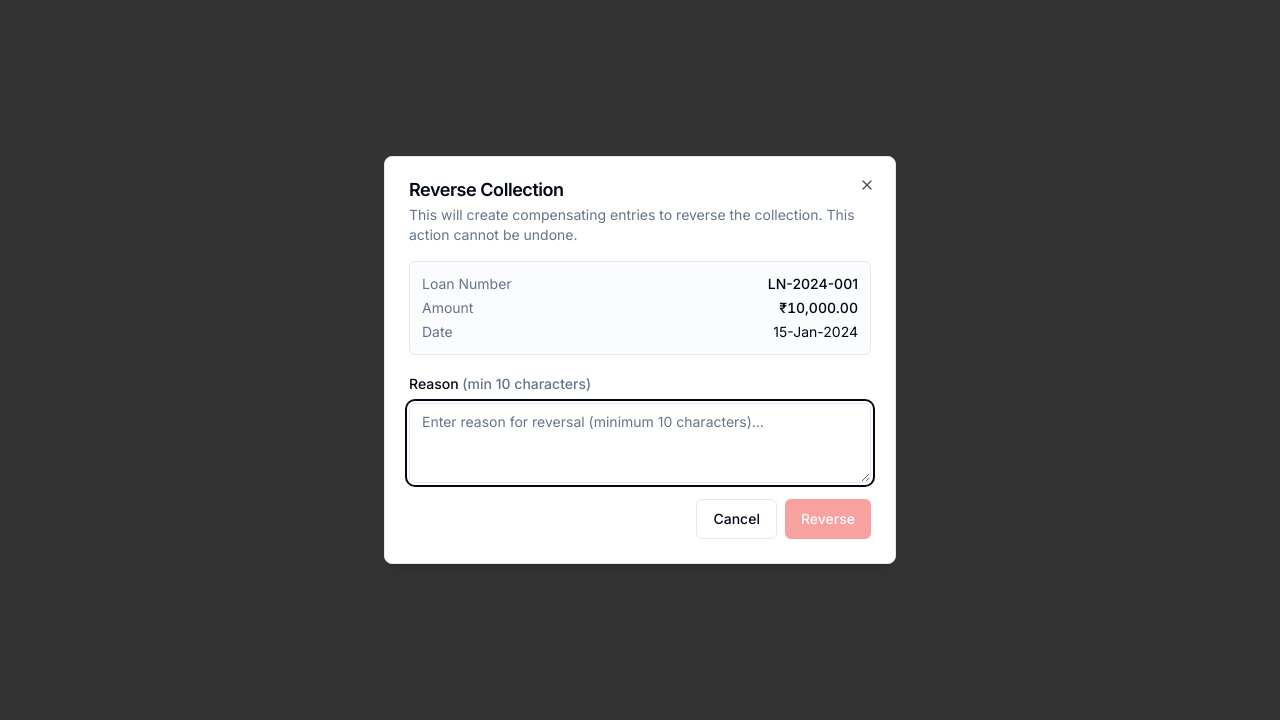
Scenario: ReversalDialog › Reason Validation › shows validation error when reason is too short
Step 1. Type "short" into the text box → [640, 443], box [409,403,871,483]
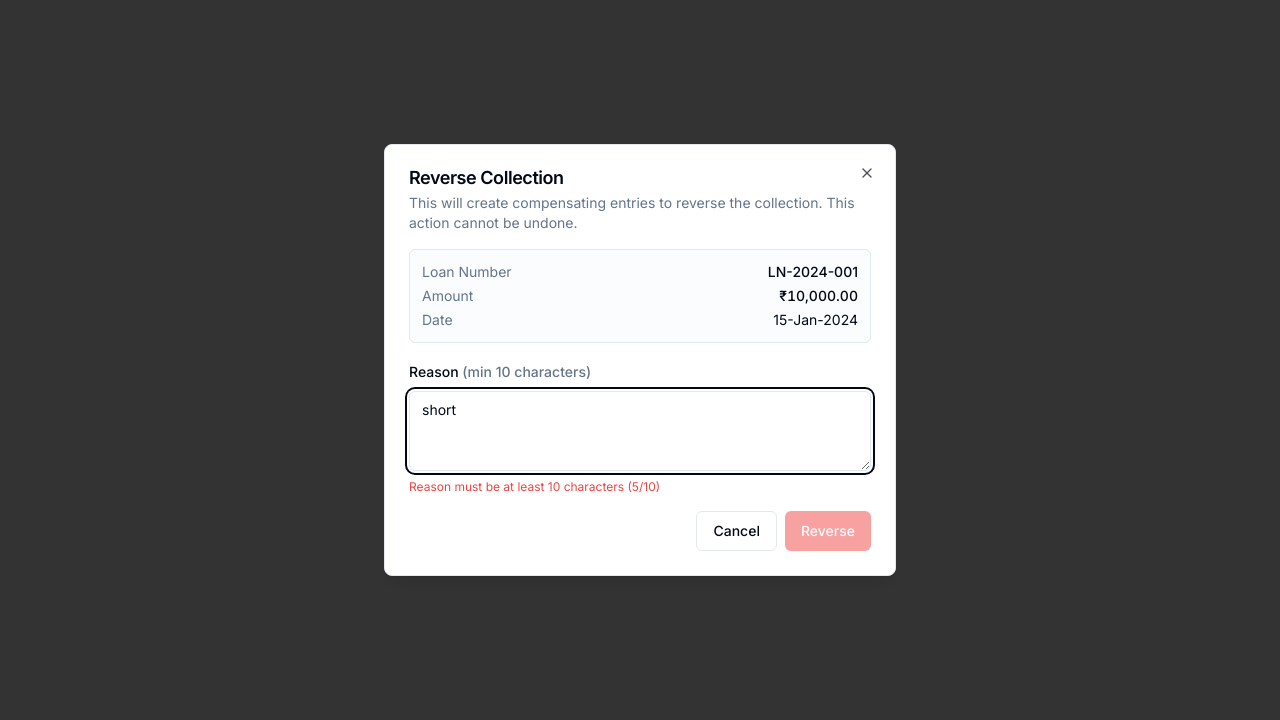
Result: the text "Reason must be at least 10 characters (5/10)" is shown at [409,479,660,494]
